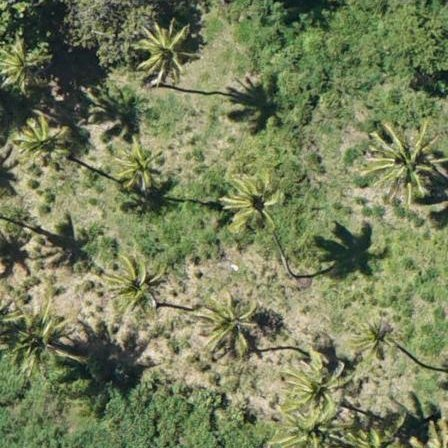palm_tree: (362, 118, 440, 202), (5, 310, 69, 377), (220, 175, 285, 233), (289, 355, 345, 413), (200, 297, 259, 352), (104, 255, 161, 311), (136, 21, 190, 78), (14, 119, 69, 171), (2, 39, 50, 95), (115, 143, 170, 190), (352, 315, 403, 363)
